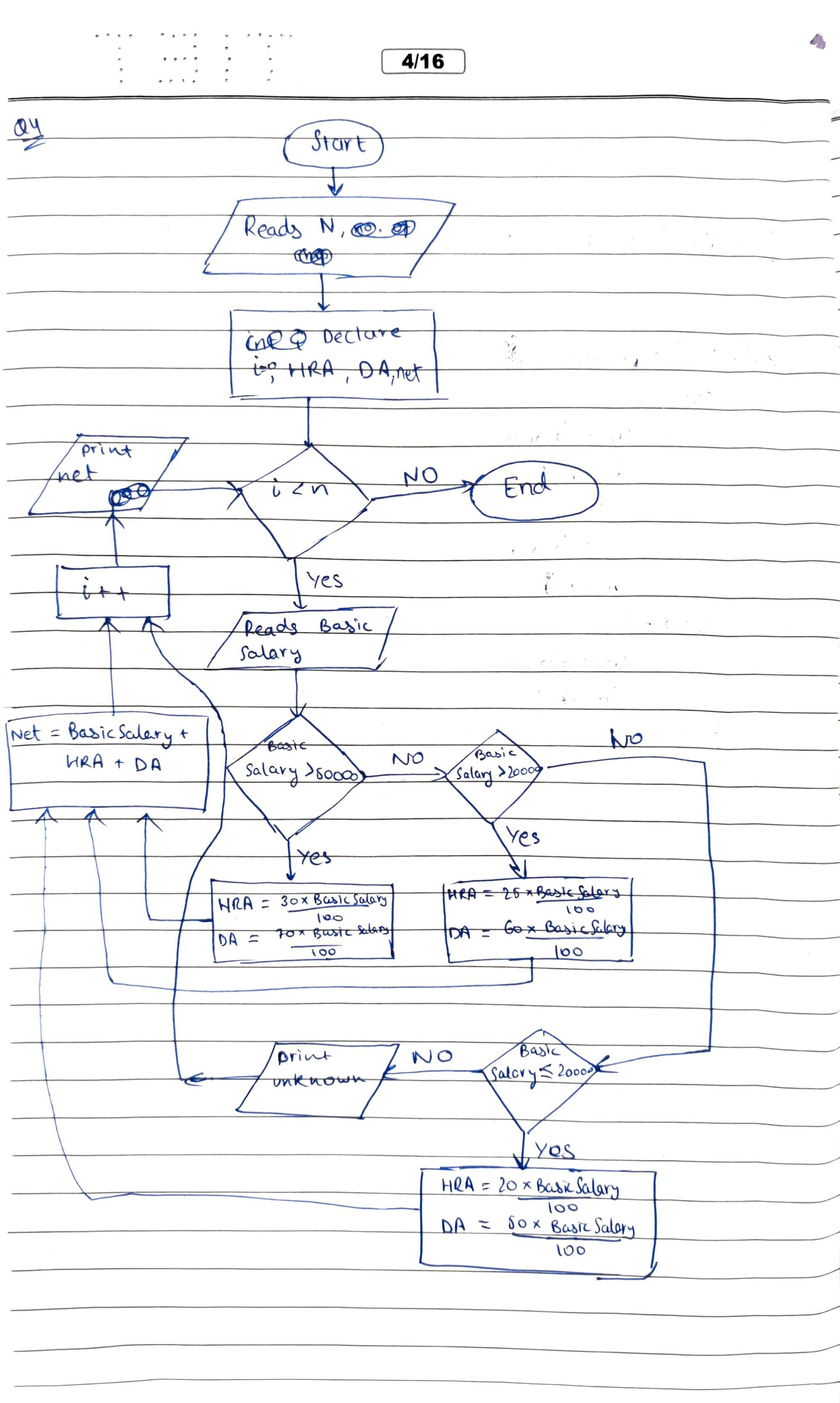cuttings: (244, 328, 307, 352), (350, 219, 417, 239), (107, 481, 152, 507), (293, 247, 333, 267)
